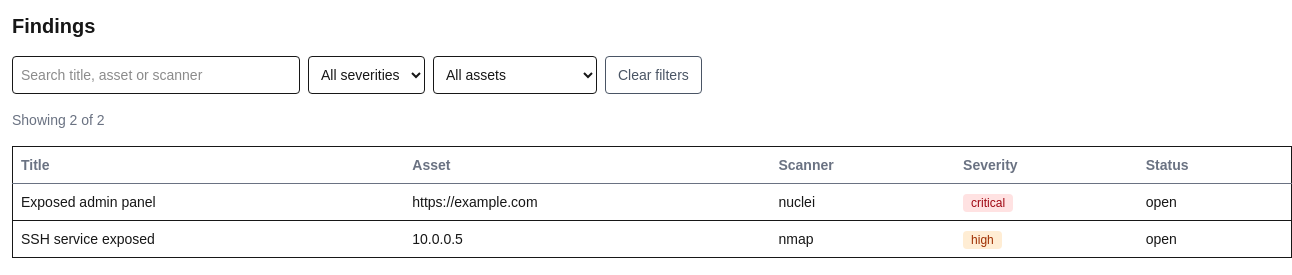
Scenario: FindingsPage › shows a message when nothing matches
Expected: the link "SSH service exposed" is shown, [21,231,155,247]
Type "zzz" into the field with placeholder "Search title, asset or scanner".
click(156, 75); type("zzz")  # box [12,56,300,94]
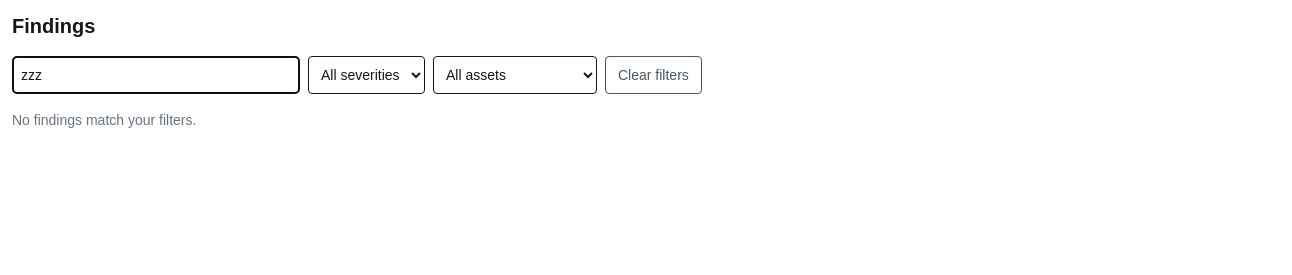
Now the text "No findings match your filters." is shown, box [12,112,196,128]
